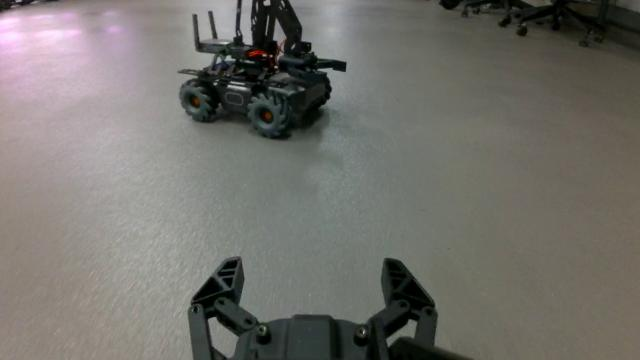robot: (177, 0, 347, 139)
